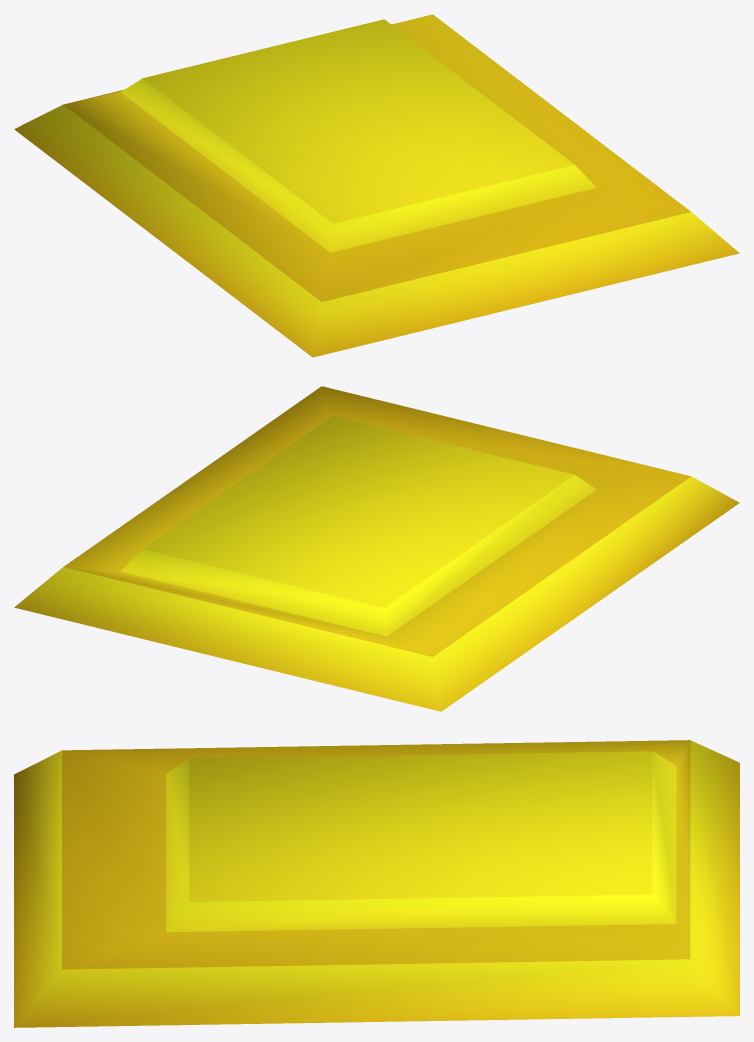
File: Rubbish Bin Lid Yellow.glb
3 views of the same model, one above another, from view 1: azimuth 30°, elevation 25°; view 2: azimuth 150°, elevation 25°; view 3: azimuth 270°, elevation 25° (orthographic). The views are drawn at different scales.
Visible parts, largest first — view 1: Rubbish Bin Lid Yellow; view 2: Rubbish Bin Lid Yellow; view 3: Rubbish Bin Lid Yellow.
Part boxes in pixels (bbox=[...]): Rubbish Bin Lid Yellow: bbox=[14, 14, 739, 357]; Rubbish Bin Lid Yellow: bbox=[14, 386, 739, 711]; Rubbish Bin Lid Yellow: bbox=[14, 740, 739, 1027].
Bounding box in the file's own units: 1.13 × 0.1635 × 1.37.
Materials: 1 (1 with a texture image).
